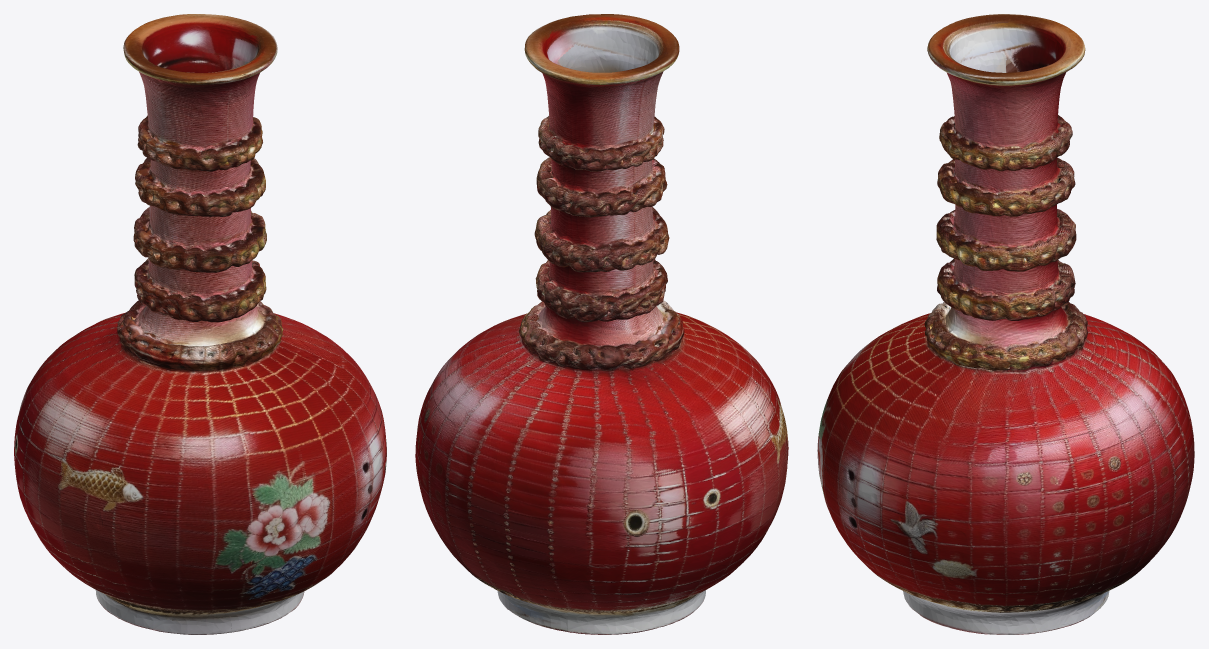
The picture shows the model from 3 angles, left to right: view 1: azimuth 30°, elevation 25°; view 2: azimuth 150°, elevation 25°; view 3: azimuth 270°, elevation 25°; orthographic projection.
Parts seen in each view (by area): view 1: Node; view 2: Node; view 3: Node.
Boxes of the visible parts, bbox=[...] form: Node: bbox=[14, 14, 386, 634]; Node: bbox=[415, 14, 788, 634]; Node: bbox=[817, 14, 1194, 634].
Bounding box in the file's own units: 1.24 × 2 × 1.25.
1 material, 1 textured.
